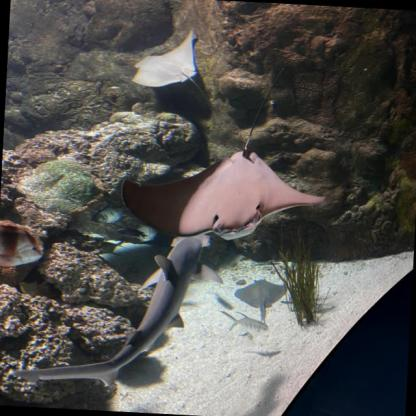fish: (0, 219, 47, 273), (218, 309, 272, 335)
shark: (11, 223, 228, 403)
stingray: (118, 141, 328, 244), (126, 25, 200, 93), (232, 277, 293, 312)
